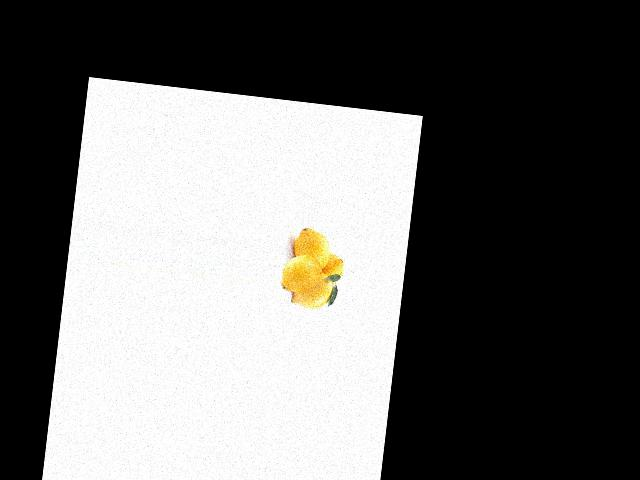lemon: (295, 224, 333, 271)
